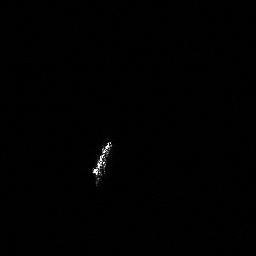ship: (87, 138, 114, 187)
